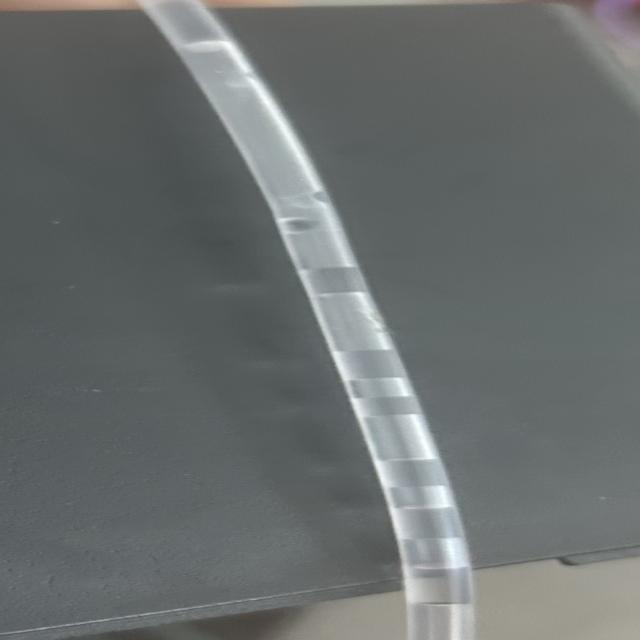bubble: (148, 27, 402, 197), (290, 282, 452, 358), (350, 404, 468, 475), (376, 601, 523, 640), (346, 540, 524, 571), (371, 481, 518, 515), (340, 375, 437, 404), (284, 205, 346, 247)
